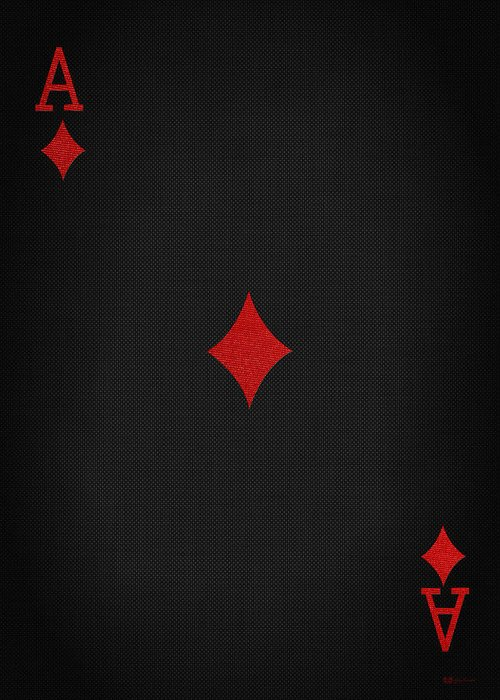ace of diamonds: (12, 4, 492, 684)
